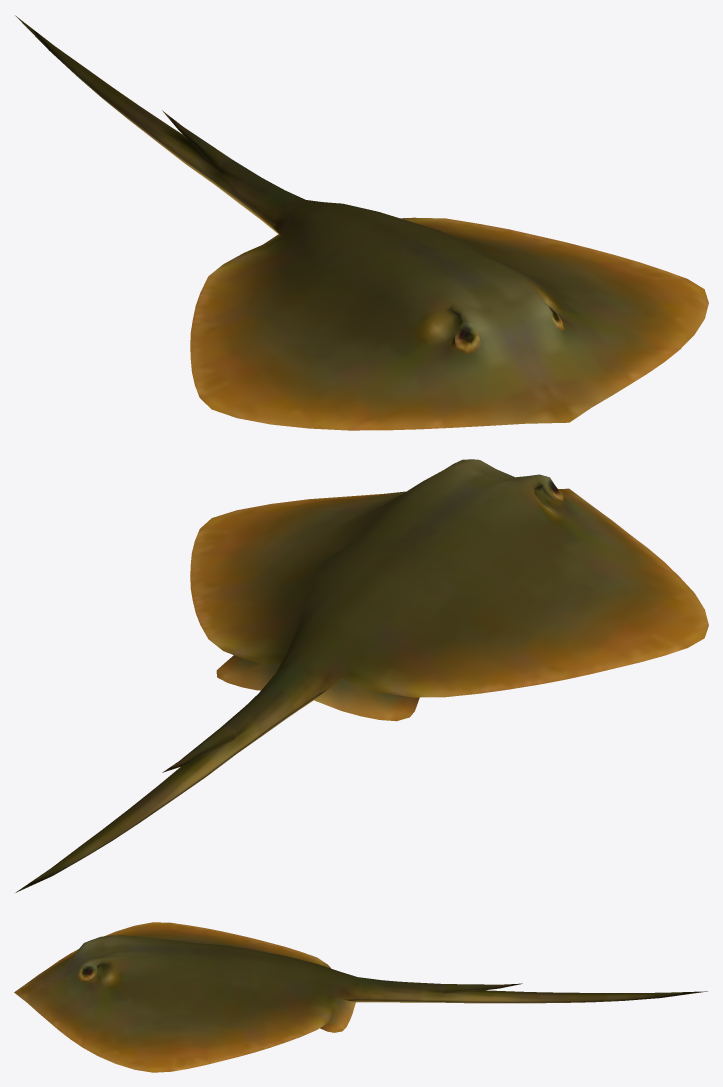
File: ray.glb
3 views of the same model, one above another, from view 1: azimuth 30°, elevation 25°; view 2: azimuth 150°, elevation 25°; view 3: azimuth 270°, elevation 25° (orthographic). The views are drawn at different scales.
Bounding box in the file's own units: 9.67 × 1.71 × 18.87.
Materials: 1 (1 with a texture image).
